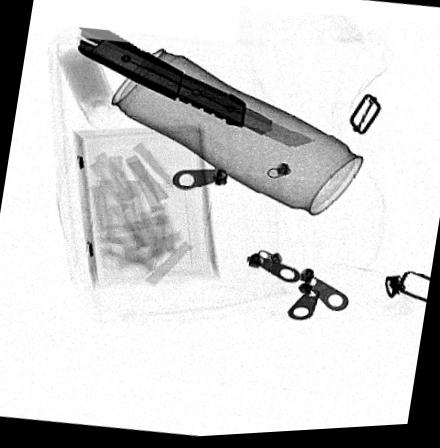Knife: (74, 25, 313, 151)
